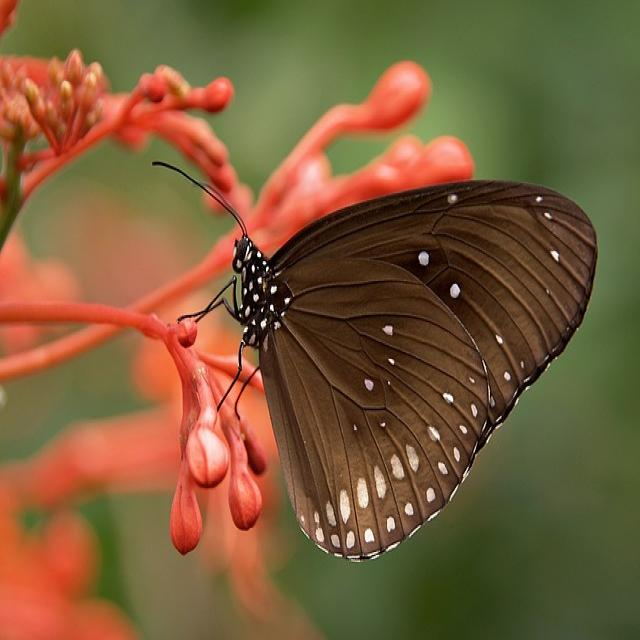butterfly: (190, 181, 598, 558)
